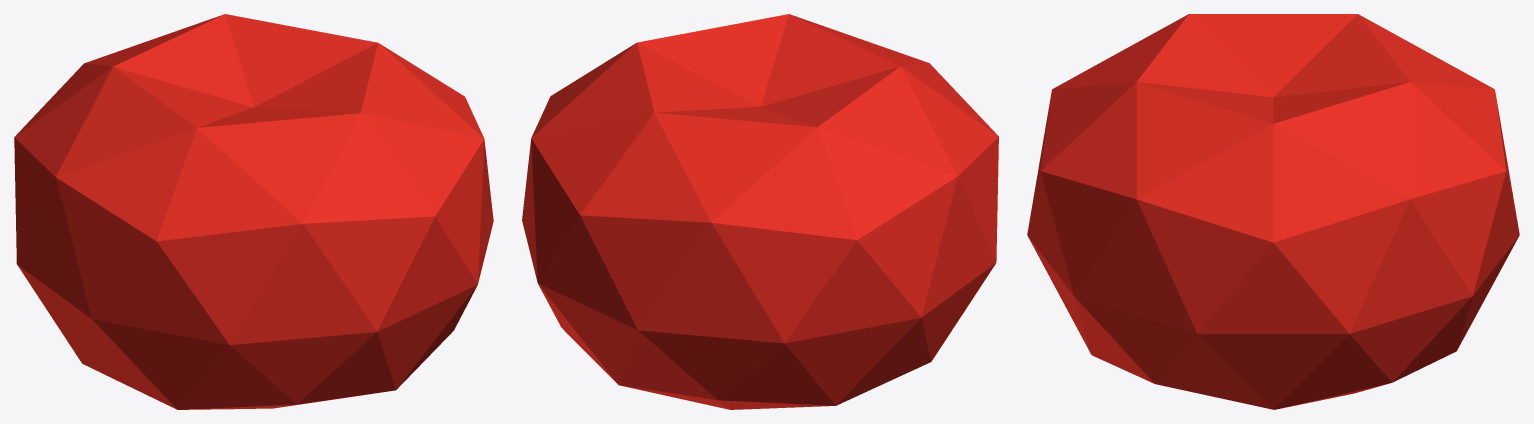
File: apple.fbx
3 views of the same model, side by side, from view 1: azimuth 30°, elevation 25°; view 2: azimuth 150°, elevation 25°; view 3: azimuth 270°, elevation 25° (orthographic).
Visible parts, largest first — view 1: Icosphere; view 2: Icosphere; view 3: Icosphere.
Part boxes in pixels (<box>): Icosphere: <box>14,14,493,409</box>; Icosphere: <box>522,14,998,409</box>; Icosphere: <box>1027,14,1519,409</box>.
Size of the model in its own units: 212 by 144 by 218.
